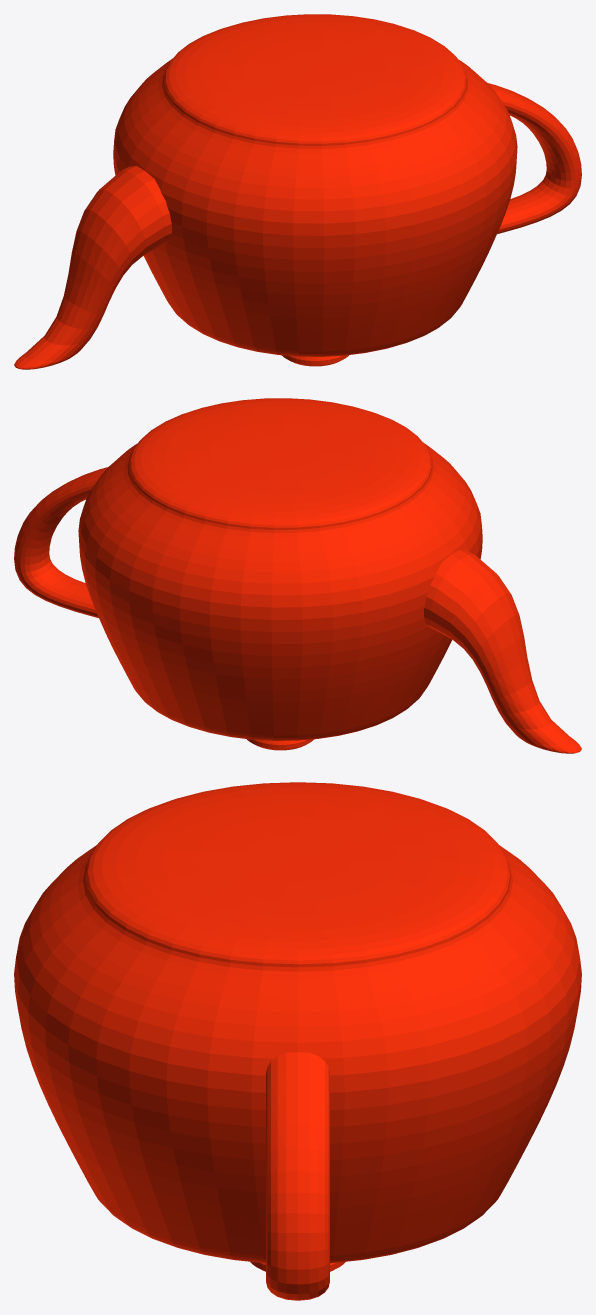
File: Teapot.obj
The picture shows the model from 3 angles, top to bottom: view 1: azimuth 30°, elevation 25°; view 2: azimuth 150°, elevation 25°; view 3: azimuth 270°, elevation 25°; orthographic projection. The views are drawn at different scales.
Visible parts, largest first — view 1: Kessel_Object; view 2: Kessel_Object; view 3: Kessel_Object.
Boxes of the visible parts, x1,y1,x2,y2 form: Kessel_Object: (14, 14, 581, 369); Kessel_Object: (14, 398, 581, 753); Kessel_Object: (14, 782, 581, 1300).
Size of the model in its own units: 821 by 403 by 511.
